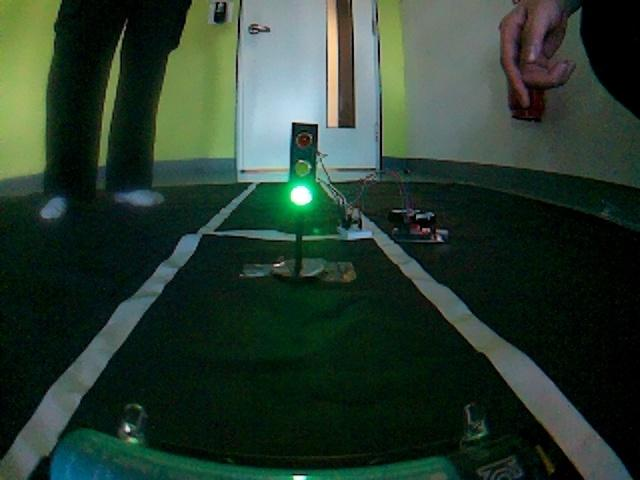go: (18, 301, 591, 480)
green_light: (233, 118, 370, 293)
